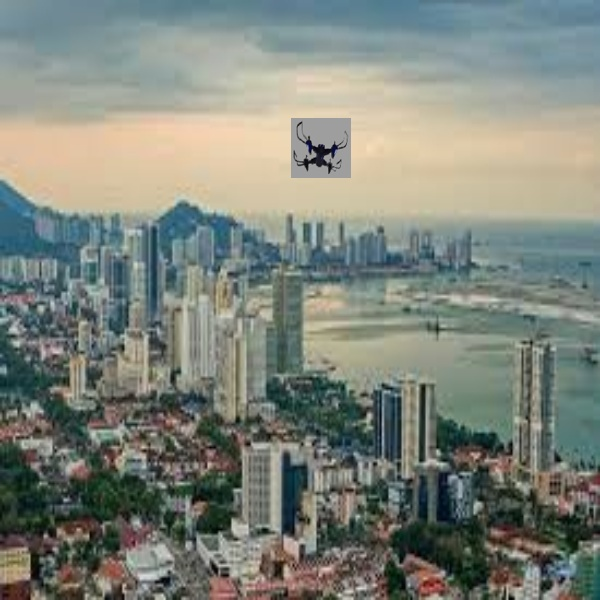drone: (292, 122, 353, 176)
